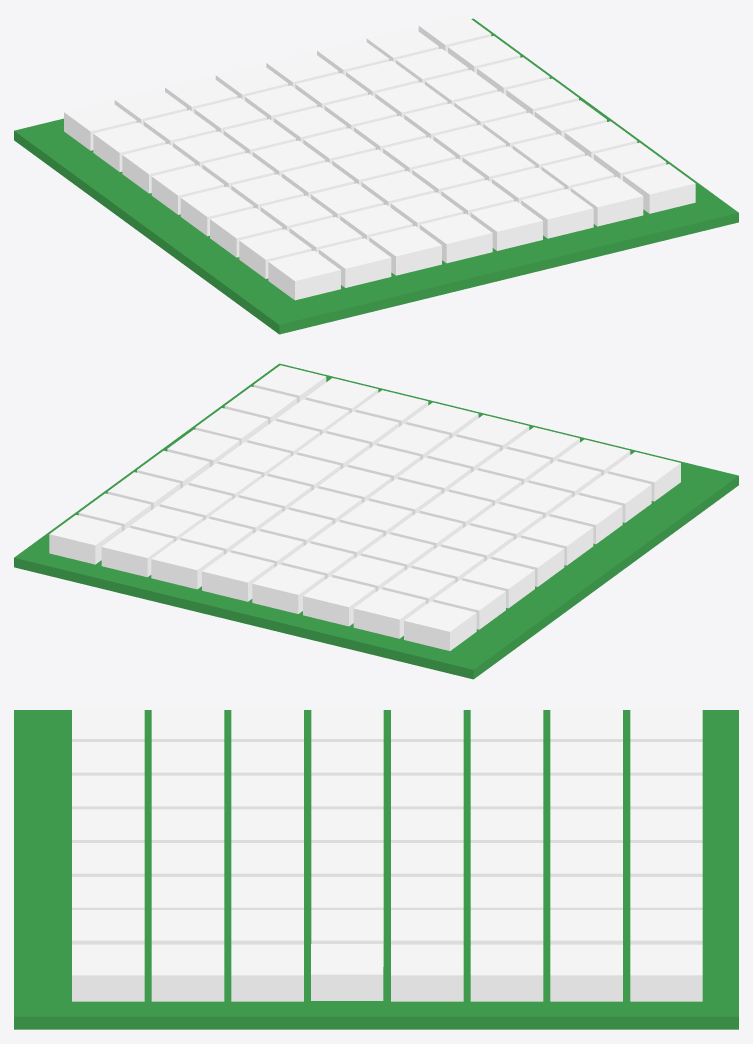
File: sensehat.gltf
The picture shows the model from 3 angles, top to bottom: view 1: azimuth 30°, elevation 25°; view 2: azimuth 150°, elevation 25°; view 3: azimuth 270°, elevation 25°; orthographic projection. The views are drawn at different scales.
Visible parts, largest first — view 1: Plane, Led88, Led81, Led85, Led83, Led84, Led86, Led87, Led82, Led58, Led28, Led48 (+53 smaller); view 2: Plane, Led18, Led11, Led13, Led14, Led15, Led16, Led17, Led12, Led48, Led78, Led28 (+53 smaller); view 3: Plane, Led31, Led71, Led11, Led21, Led41, Led61, Led81, Led51, Led32, Led72, Led36 (+53 smaller).
Part boxes in pixels (left/top/right/bottom): Plane: left=14, top=18, right=738, bottom=334; Led88: left=268, top=250, right=340, bottom=300; Led81: left=623, top=164, right=695, bottom=213; Led85: left=420, top=213, right=492, bottom=263; Led83: left=521, top=189, right=593, bottom=238; Led84: left=470, top=201, right=542, bottom=250; Led86: left=369, top=226, right=441, bottom=275; Led87: left=319, top=238, right=391, bottom=287; Led82: left=571, top=176, right=643, bottom=226; Led58: left=180, top=186, right=253, bottom=236; Led28: left=93, top=122, right=165, bottom=171; Led48: left=151, top=165, right=223, bottom=214; Plane: left=14, top=363, right=738, bottom=679; Led18: left=404, top=601, right=476, bottom=650; Led11: left=49, top=515, right=121, bottom=564; Led13: left=151, top=539, right=223, bottom=589; Led14: left=202, top=552, right=274, bottom=601; Led15: left=252, top=564, right=324, bottom=613; Led16: left=303, top=576, right=375, bottom=626; Led17: left=353, top=589, right=425, bottom=638; Led12: left=101, top=527, right=173, bottom=577; Led48: left=491, top=537, right=564, bottom=586; Led78: left=579, top=473, right=651, bottom=522; Led28: left=433, top=580, right=505, bottom=629; Plane: left=14, top=710, right=738, bottom=1029; Led31: left=470, top=944, right=543, bottom=1001; Led71: left=151, top=944, right=224, bottom=1001; Led11: left=630, top=944, right=702, bottom=1001; Led21: left=550, top=944, right=622, bottom=1001; Led41: left=391, top=944, right=463, bottom=1001; Led61: left=231, top=944, right=303, bottom=1001; Led81: left=72, top=944, right=144, bottom=1001; Led51: left=311, top=944, right=383, bottom=1000; Led32: left=470, top=910, right=543, bottom=944; Led72: left=151, top=910, right=224, bottom=944; Led36: left=470, top=775, right=543, bottom=809.
Bounding box in the file's own units: 10 × 0.6 × 10.
